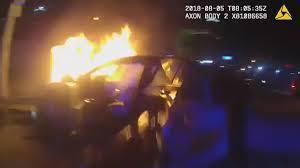fire: (39, 25, 150, 86)
